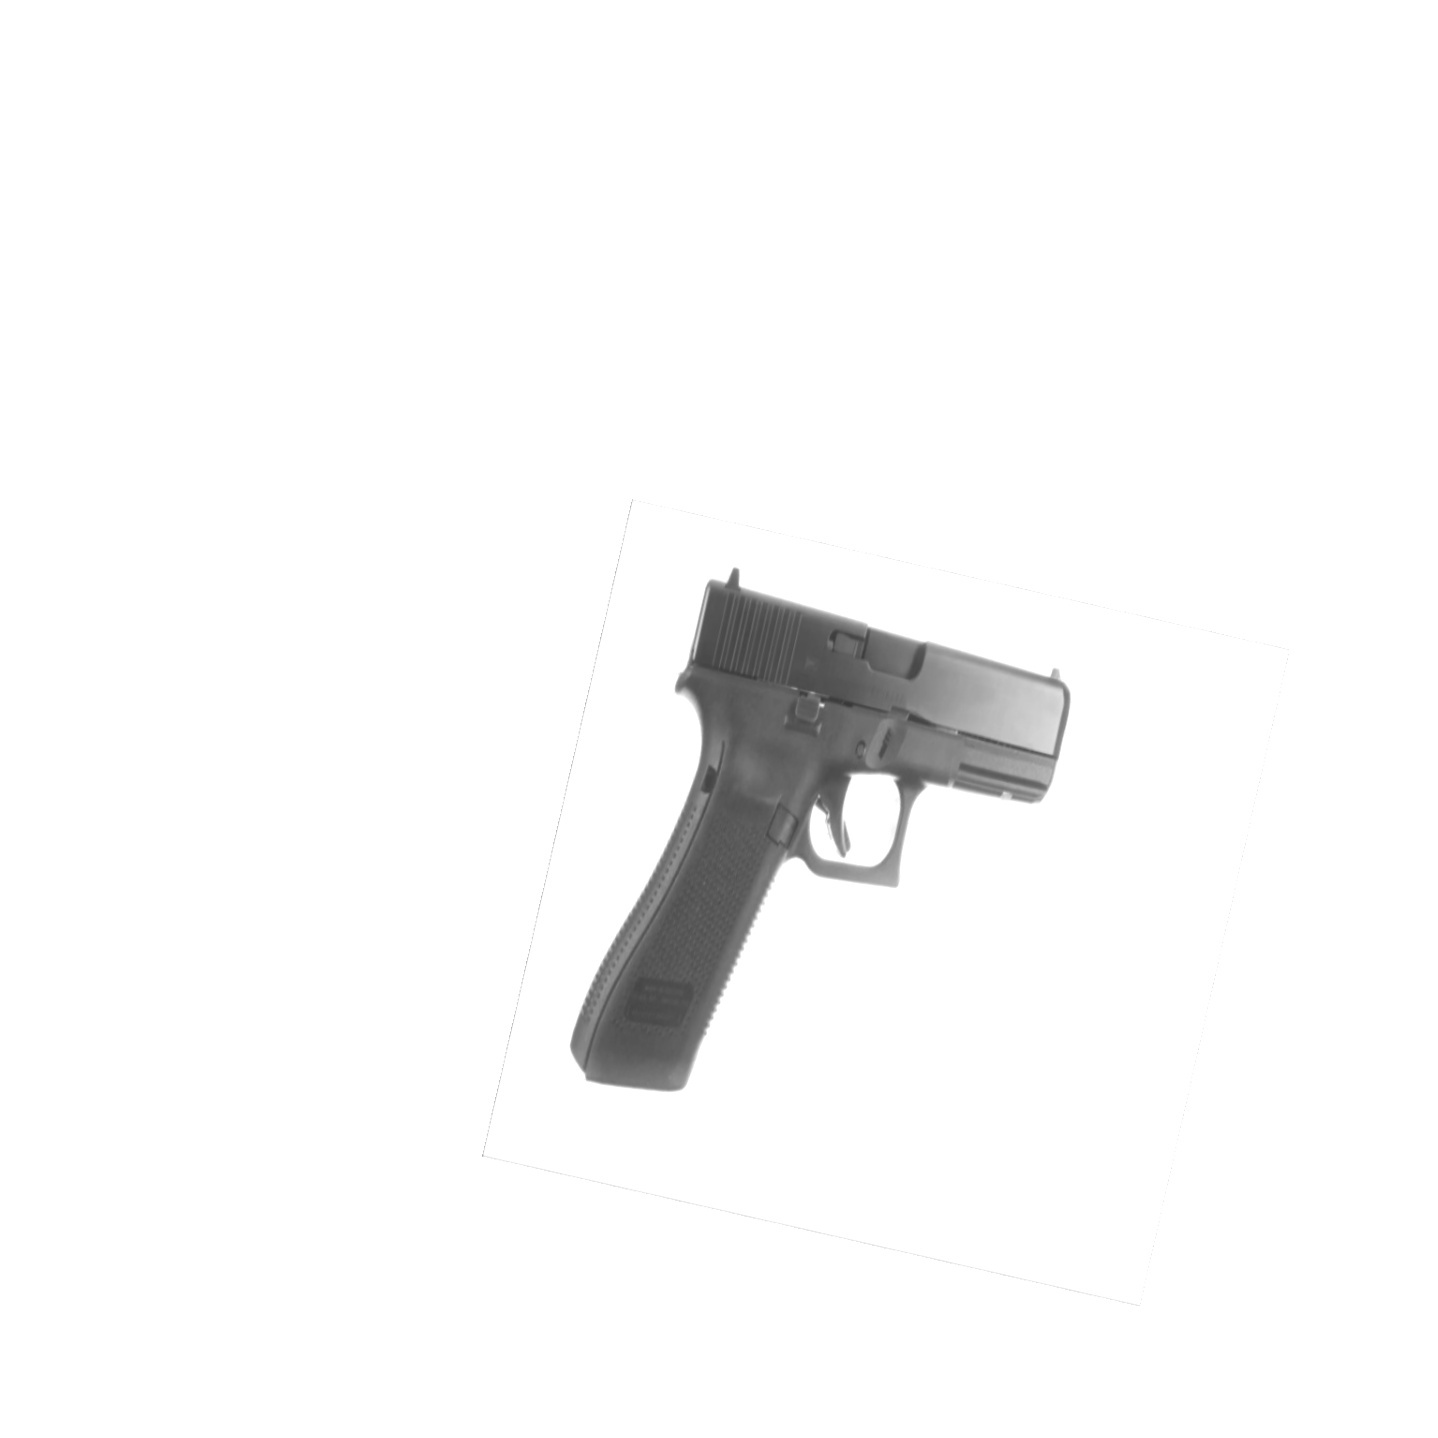gun: (561, 566, 1096, 1106)
